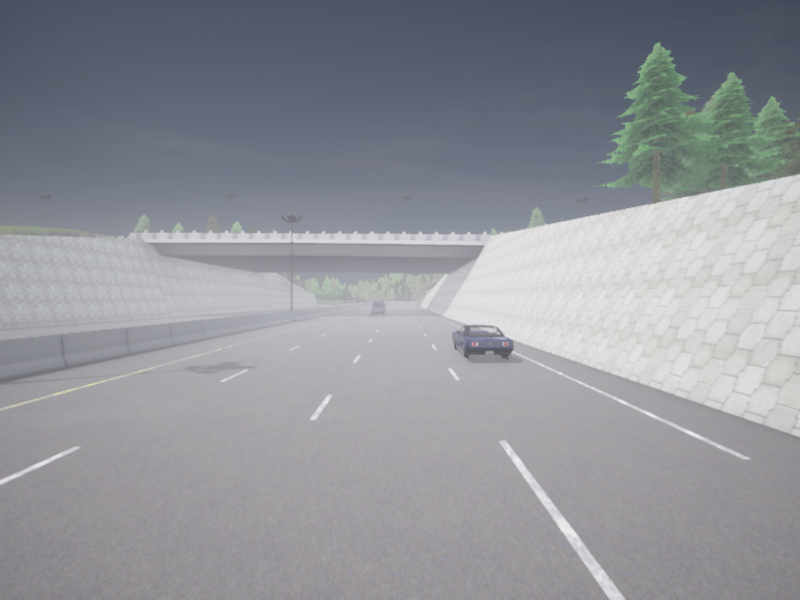vehicle: (453, 325, 513, 358), (372, 299, 385, 314)
